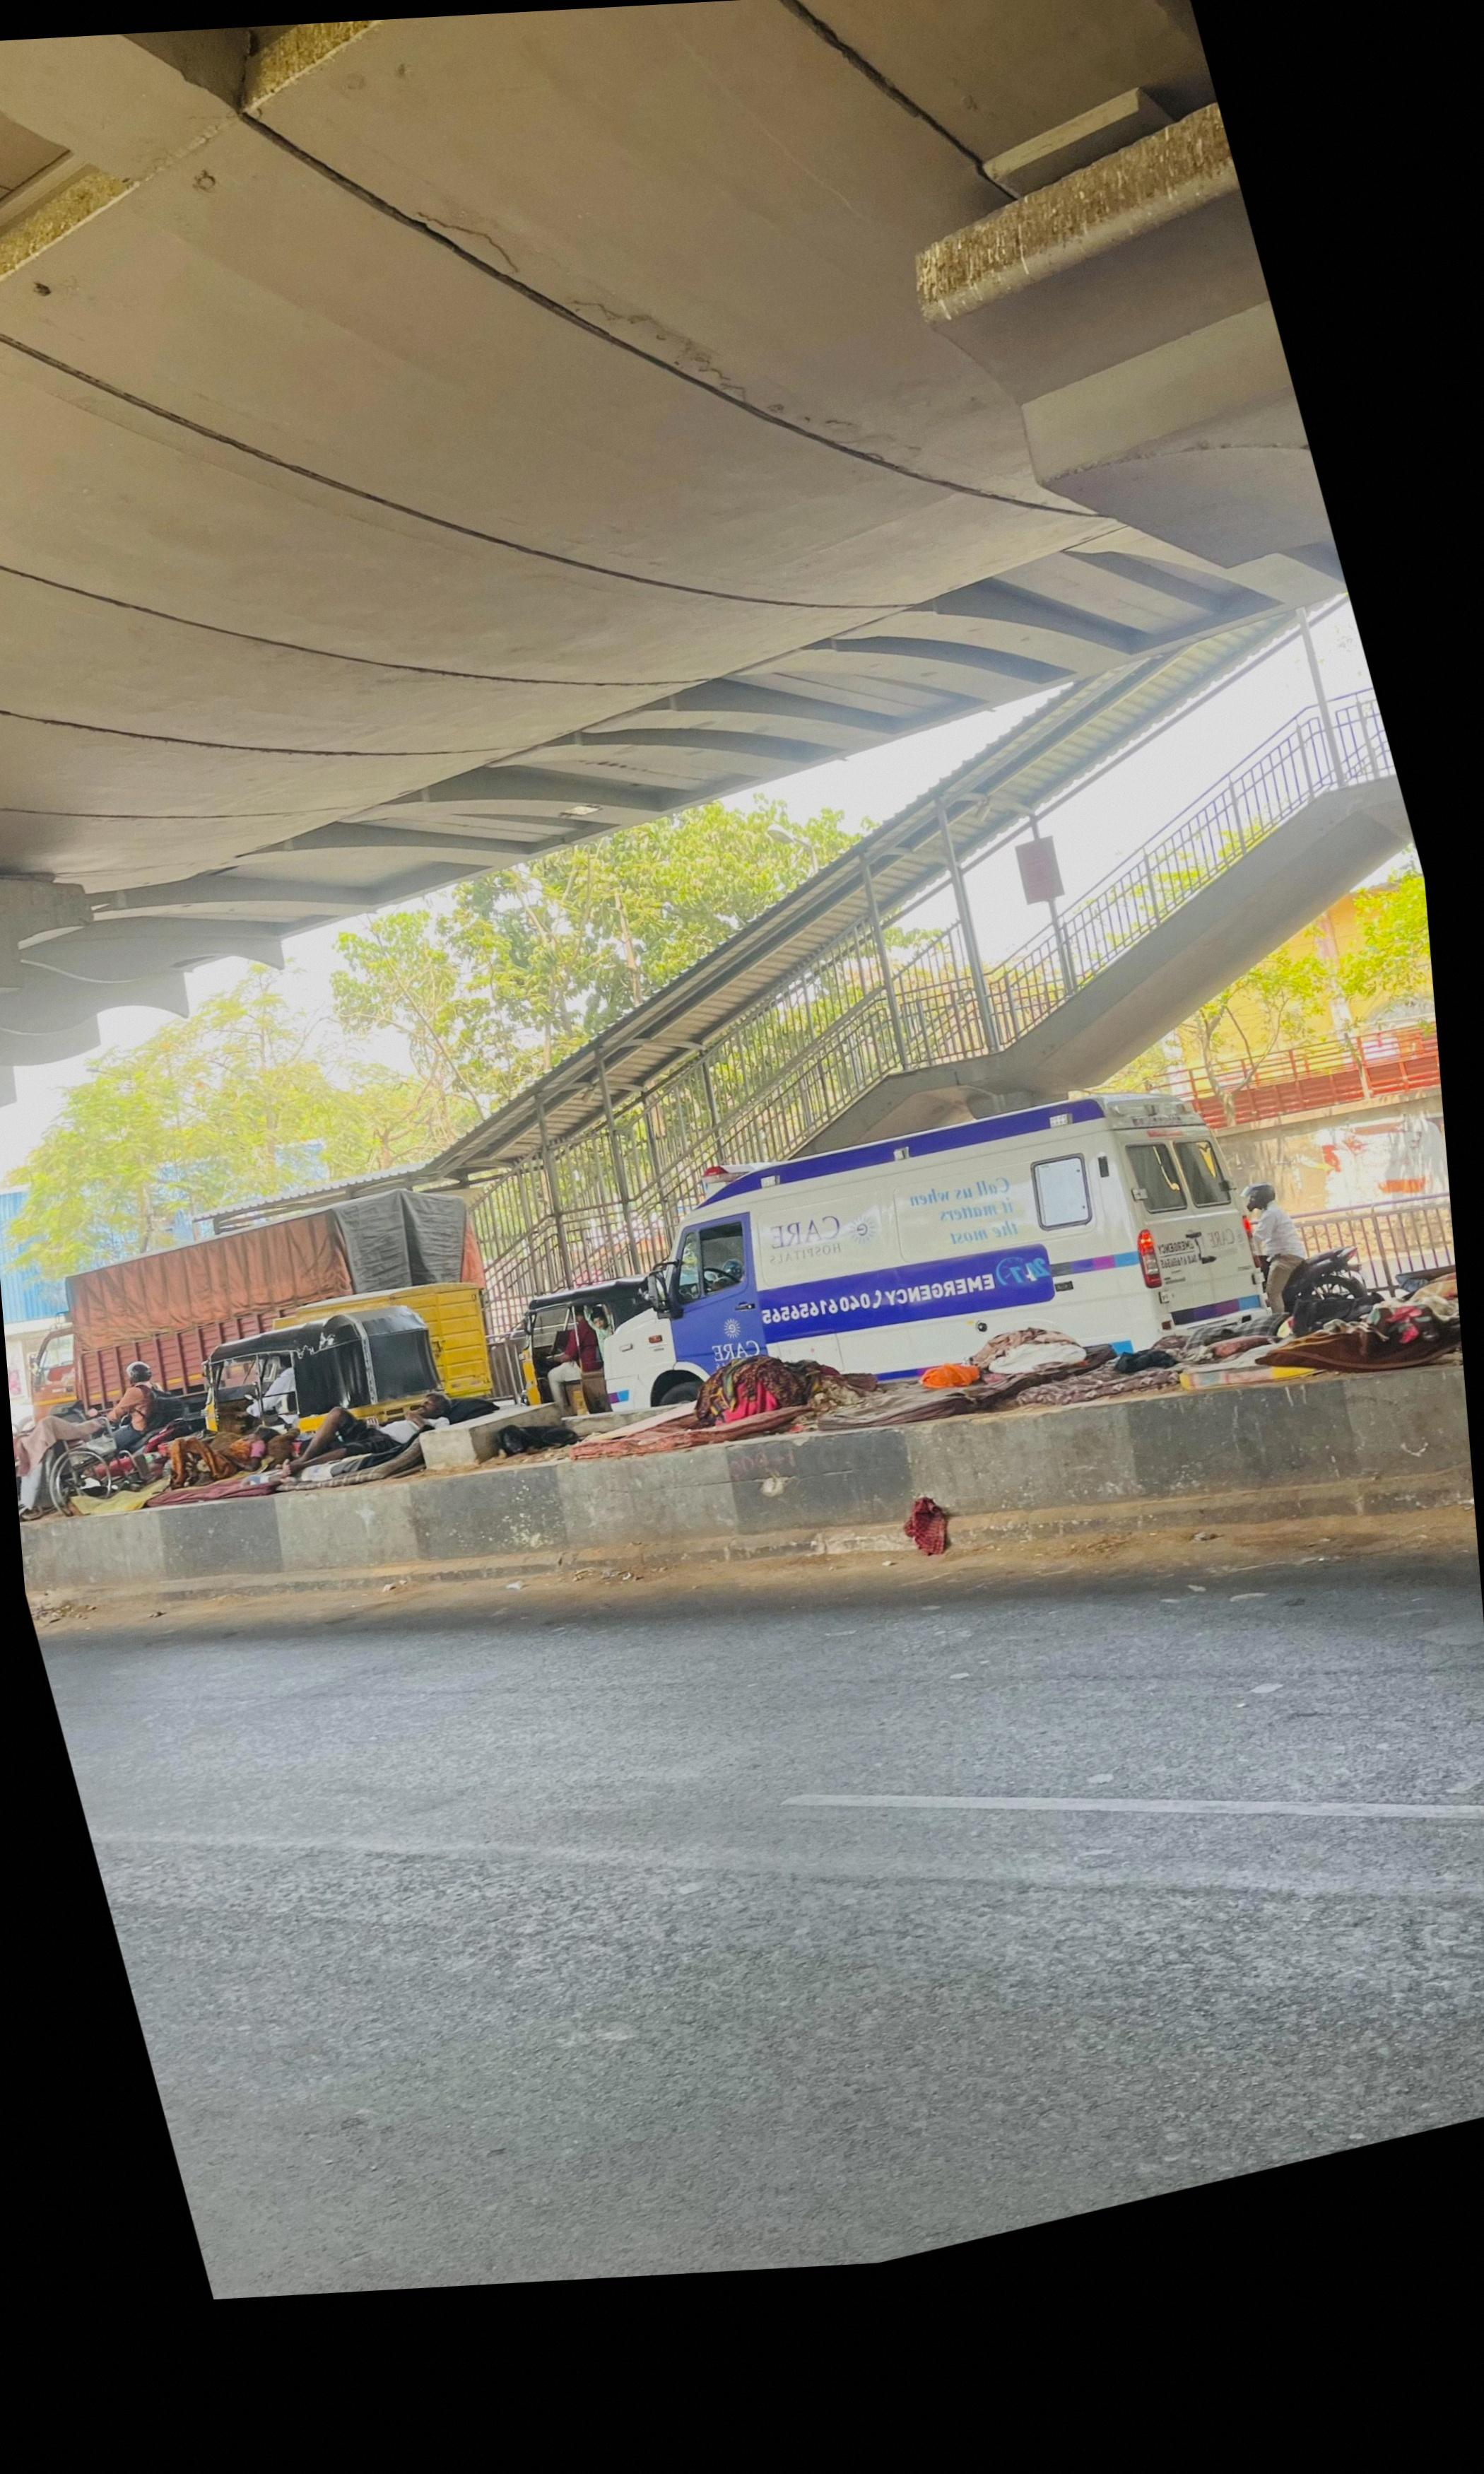ambulance: (597, 1096, 1272, 1415)
